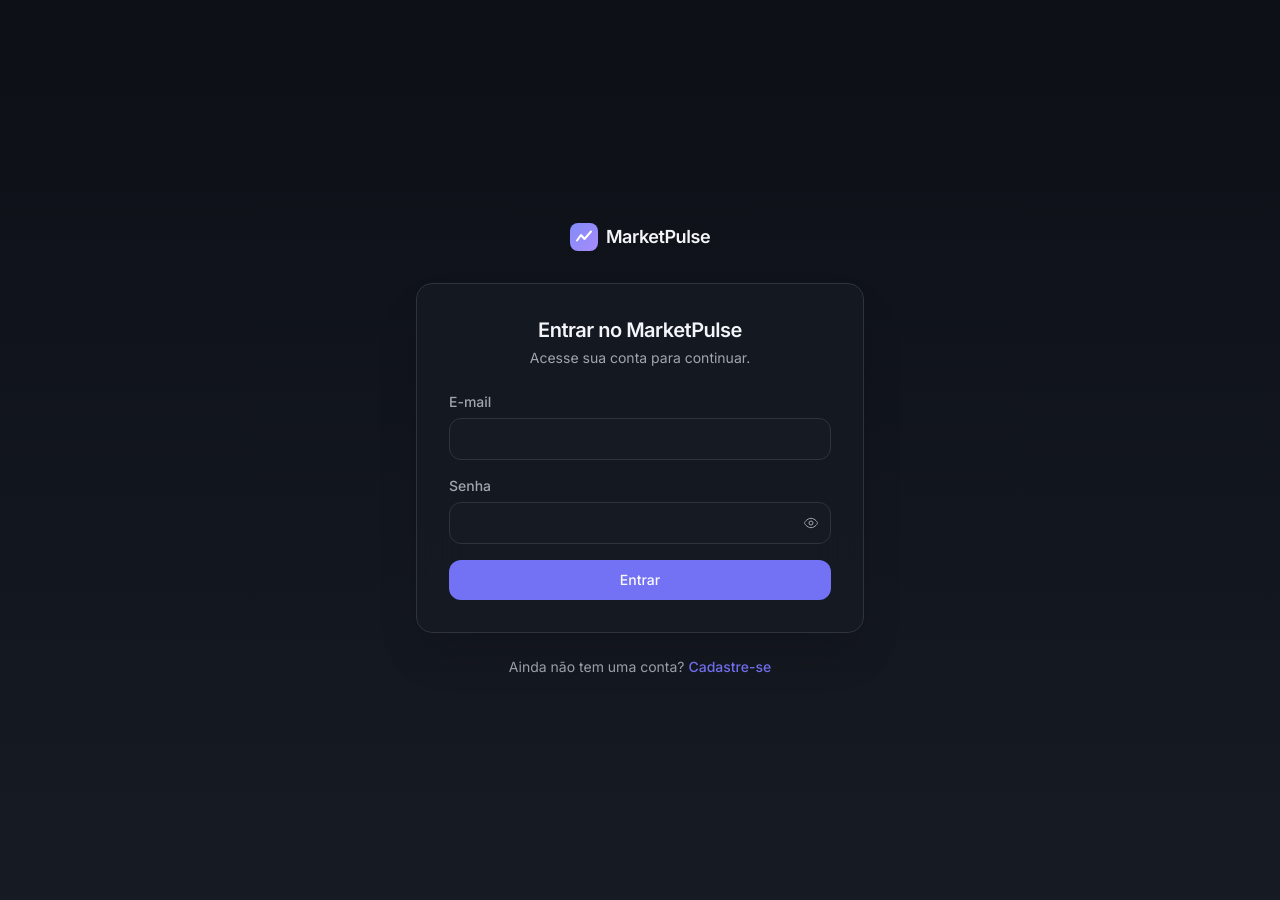
Test: LoginPage › shows an error message when login fails
The image size is (1280, 900).
Type "user@example.com" into the field labelled "E-mail" at coordinates (640, 439), box x1=449 y1=418 x2=831 y2=460
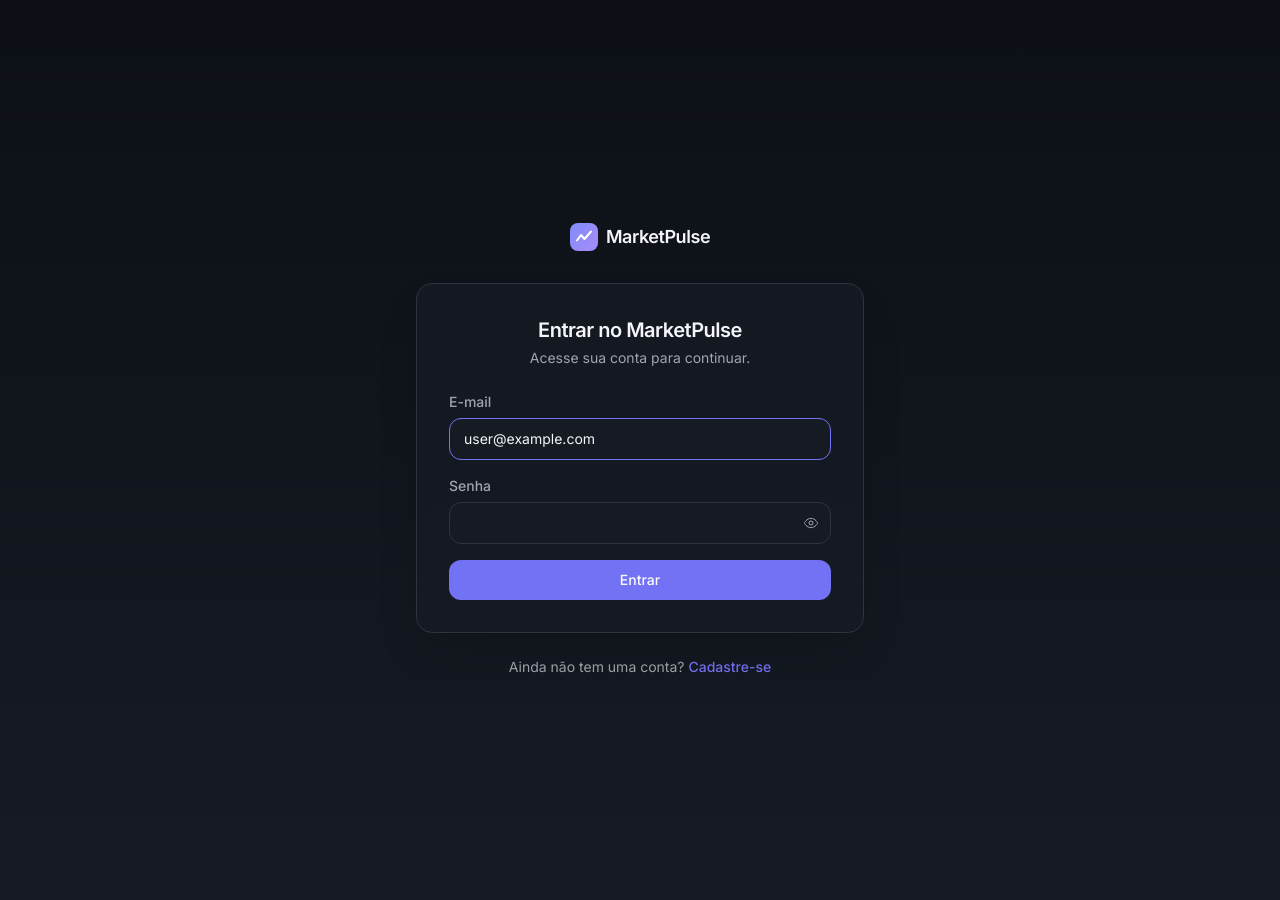
Type "wrong-password" into the password field labelled "Senha" at coordinates (640, 523), box x1=449 y1=502 x2=831 y2=544
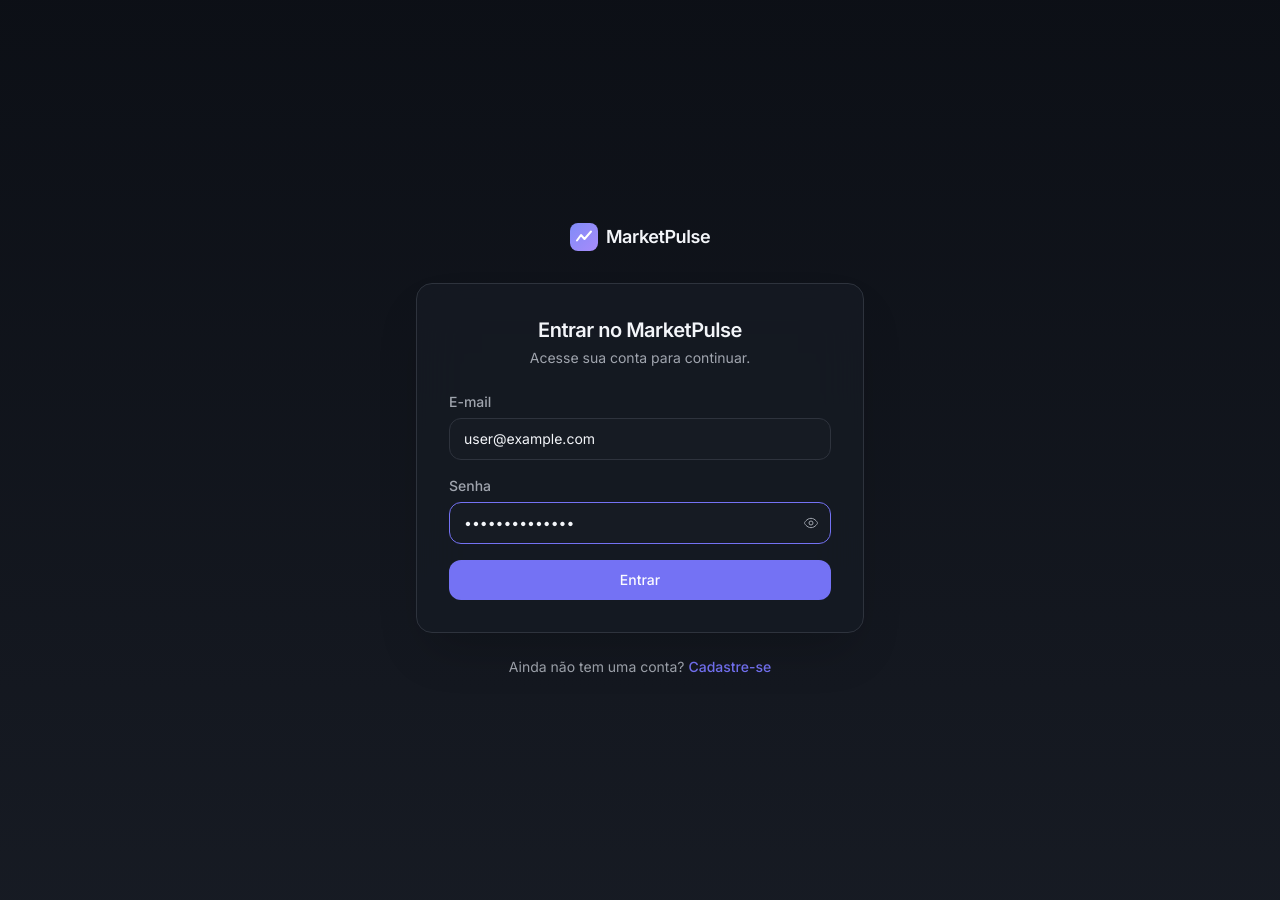
Click the button "Entrar" at coordinates (640, 580), box x1=449 y1=560 x2=831 y2=600
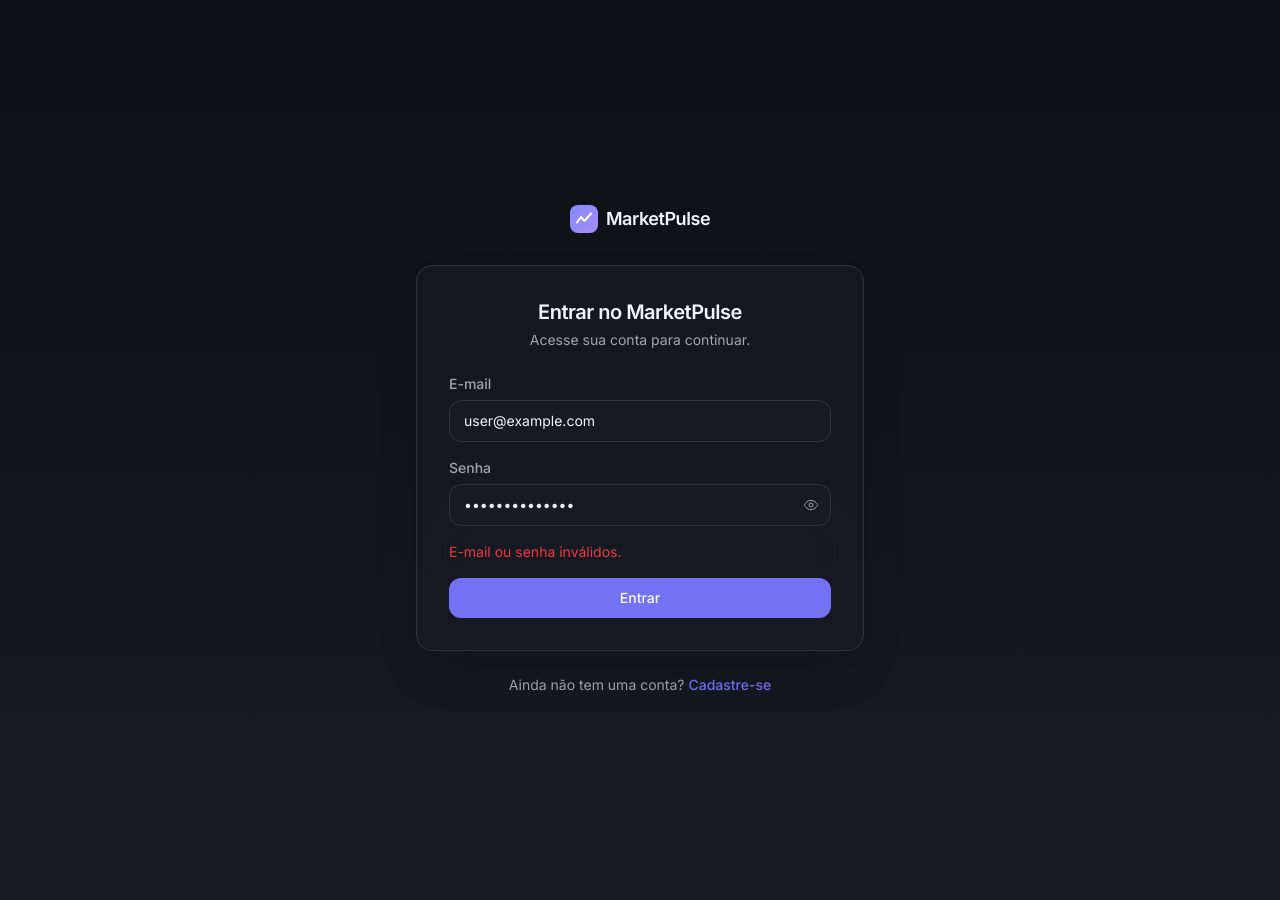
Expected: the message reads "E-mail ou senha inválidos.", x1=449 y1=543 x2=622 y2=560
